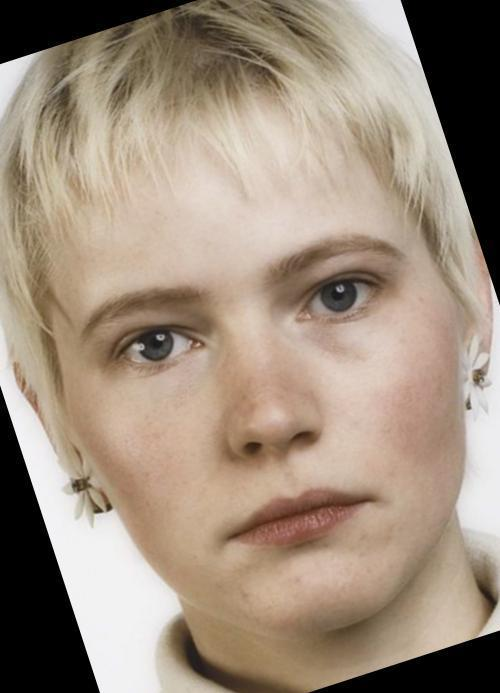Sober: (33, 112, 450, 637)
